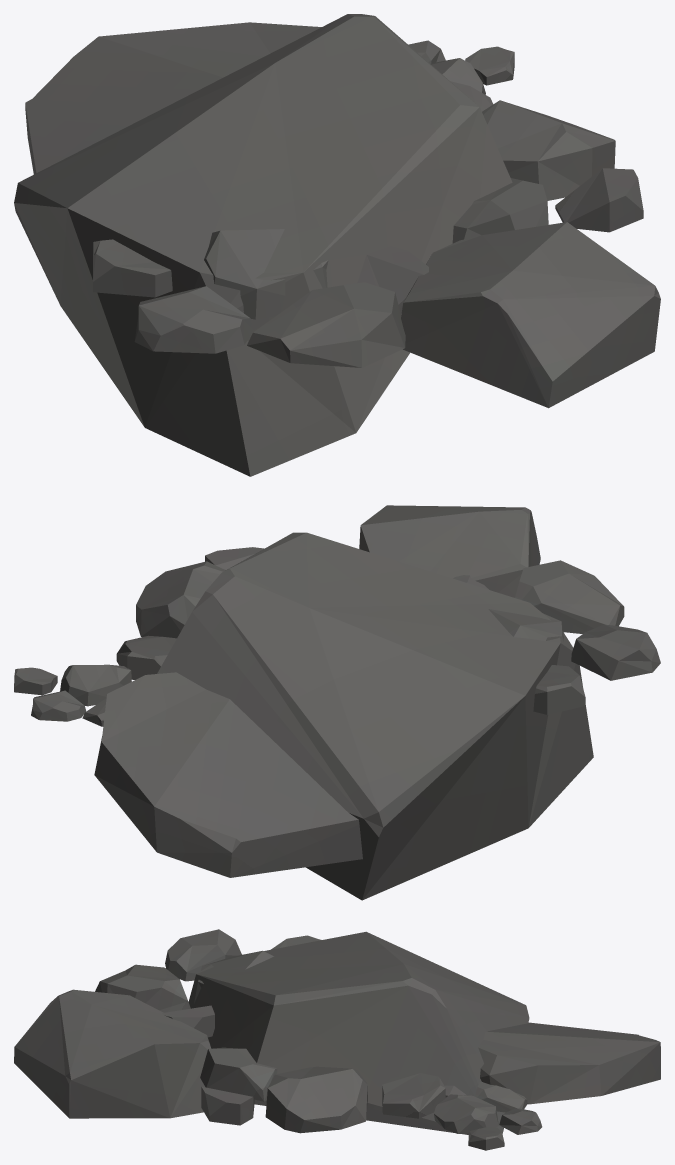
The model's file is Rock_Debris_02.fbx.
The picture shows the model from 3 angles, top to bottom: view 1: azimuth 30°, elevation 25°; view 2: azimuth 150°, elevation 25°; view 3: azimuth 270°, elevation 25°; orthographic projection. The views are drawn at different scales.
Visible parts, largest first — view 1: SM_Rock_Debris_02.mo; view 2: SM_Rock_Debris_02.mo; view 3: SM_Rock_Debris_02.mo.
Boxes of the visible parts, x1,y1,x2,y2 form: SM_Rock_Debris_02.mo: (14,14,660,476); SM_Rock_Debris_02.mo: (14,505,660,900); SM_Rock_Debris_02.mo: (14,929,660,1150).
Bounding box in the file's own units: 182 × 87.78 × 251.
